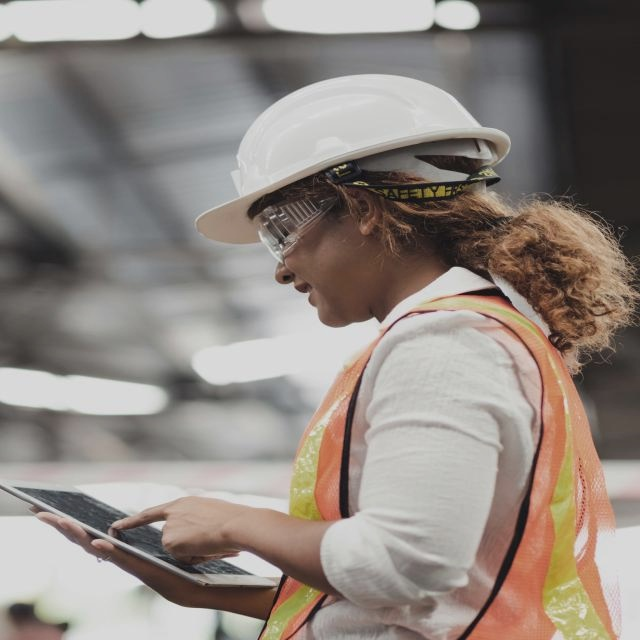goggles: (283, 182, 406, 267)
helmet: (120, 75, 449, 246)
vest: (17, 290, 406, 640)
